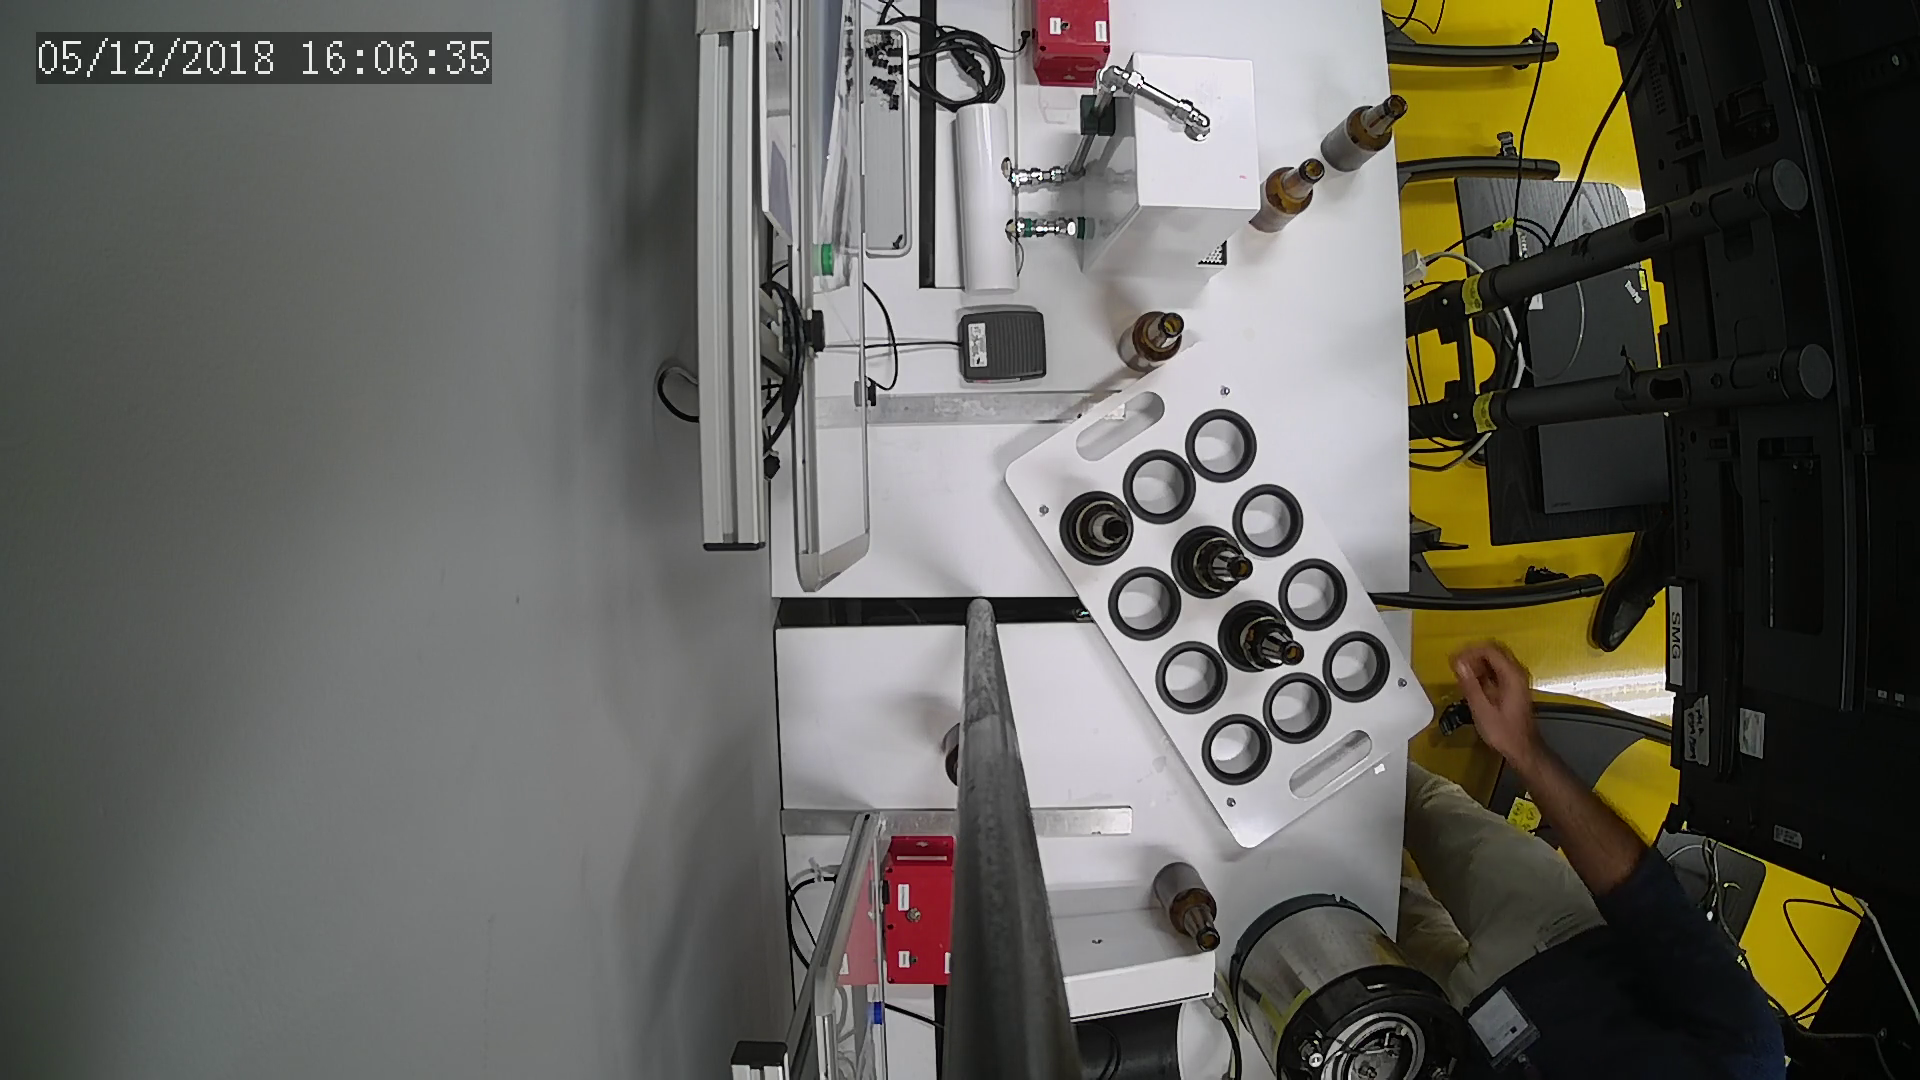filled_bottle: (1220, 603, 1303, 682), (1176, 526, 1258, 599), (1064, 493, 1135, 564)
trolley: (1001, 340, 1439, 851)
unfilled_bottle: (1153, 858, 1226, 955), (1320, 94, 1410, 171), (1251, 156, 1327, 233), (1118, 311, 1187, 375)
